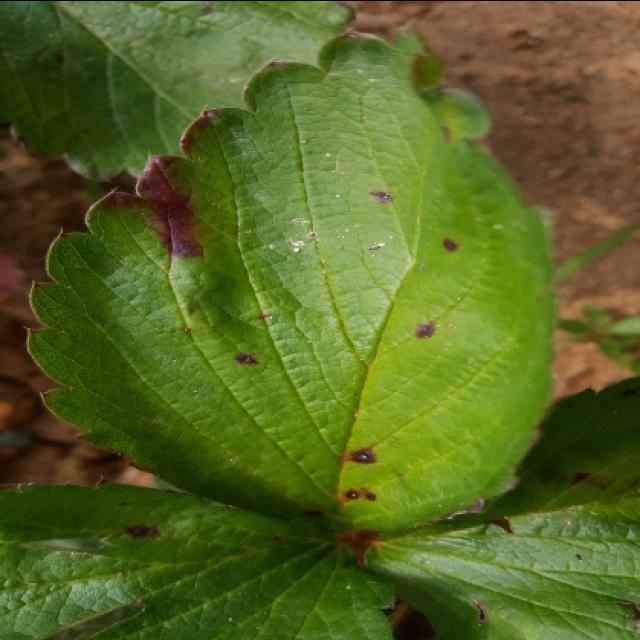Leaf Spot: (25, 29, 557, 538), (353, 376, 638, 638), (0, 478, 397, 638)
